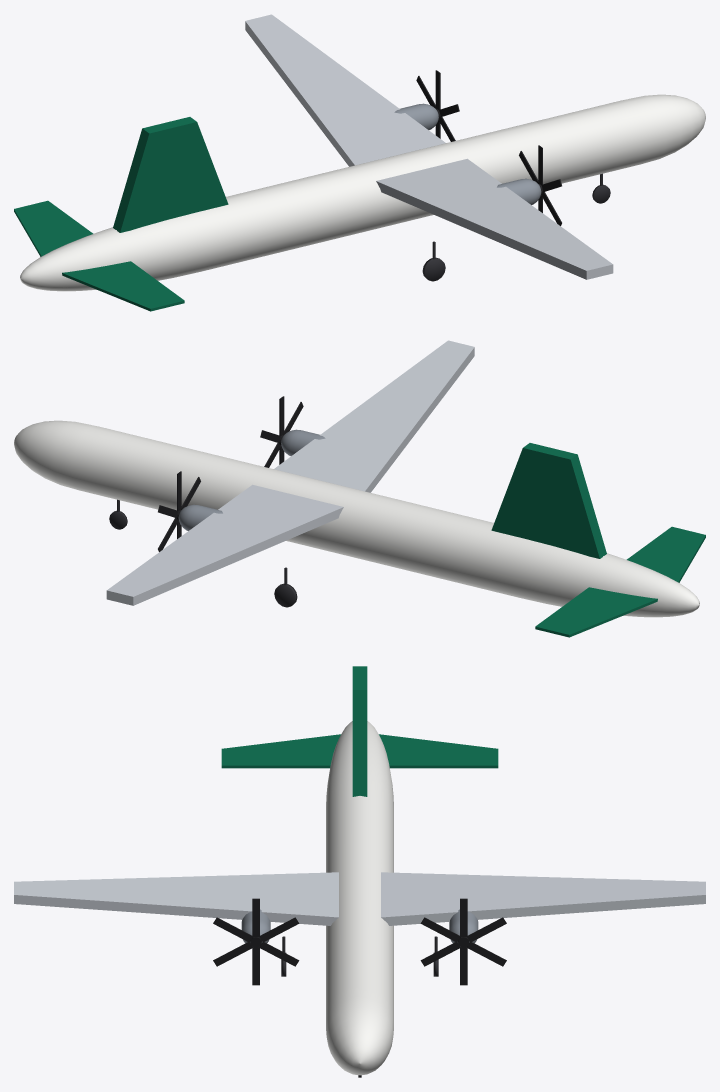
3 renders of one model, top to bottom at view 1: azimuth 30°, elevation 25°; view 2: azimuth 150°, elevation 25°; view 3: azimuth 270°, elevation 25°, orthographic.
Visible parts, largest first — view 1: fuselage, wings, tail, propellers, engines, gear; view 2: fuselage, wings, tail, propellers, engines, gear; view 3: wings, fuselage, tail, propellers, engines.
Boxes of the visible parts, x1=… form: fuselage: x1=20, y1=94, x2=705, y2=291; wings: x1=245, y1=14, x2=613, y2=279; tail: x1=14, y1=117, x2=228, y2=311; propellers: x1=416, y1=70, x2=561, y2=225; engines: x1=394, y1=103, x2=541, y2=204; gear: x1=422, y1=173, x2=610, y2=281; fuselage: x1=14, y1=420, x2=699, y2=617; wings: x1=106, y1=340, x2=474, y2=605; tail: x1=491, y1=443, x2=705, y2=637; propellers: x1=158, y1=396, x2=303, y2=551; engines: x1=178, y1=429, x2=325, y2=530; gear: x1=109, y1=499, x2=297, y2=607; wings: x1=14, y1=872, x2=705, y2=925; fuselage: x1=326, y1=721, x2=393, y2=1075; tail: x1=221, y1=666, x2=498, y2=796; propellers: x1=213, y1=898, x2=506, y2=985; engines: x1=241, y1=909, x2=478, y2=943.
Bounding box in the file's own units: 32.8 × 8.39 × 28.4.
